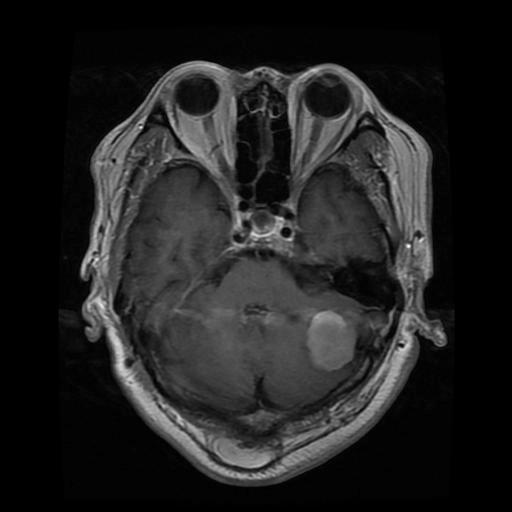Tumour-Meningioma: (282, 289, 369, 387)
